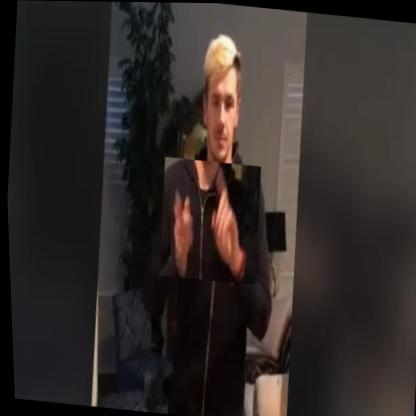NiceToMeetYou: (153, 156, 263, 284)
